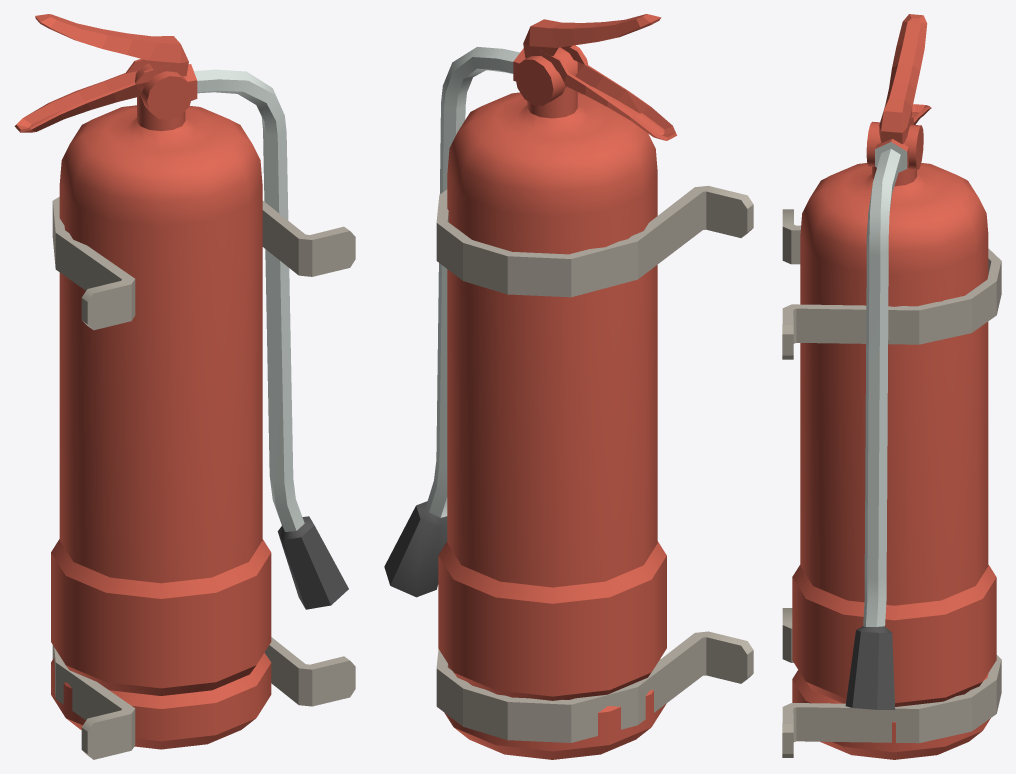
Rendered from SM_Extinguisher_01.fbx.
3 views of the same model, side by side, from view 1: azimuth 30°, elevation 25°; view 2: azimuth 150°, elevation 25°; view 3: azimuth 270°, elevation 25° (orthographic). The views are drawn at different scales.
Parts seen in each view (by area): view 1: SM_Extinguisher_01; view 2: SM_Extinguisher_01; view 3: SM_Extinguisher_01.
Part boxes in pixels (x1,y1,x2,y2): SM_Extinguisher_01: (14, 14, 355, 759); SM_Extinguisher_01: (384, 14, 753, 759); SM_Extinguisher_01: (782, 14, 1001, 759).
Bounding box in the file's own units: 33.48 × 74.57 × 22.43.
